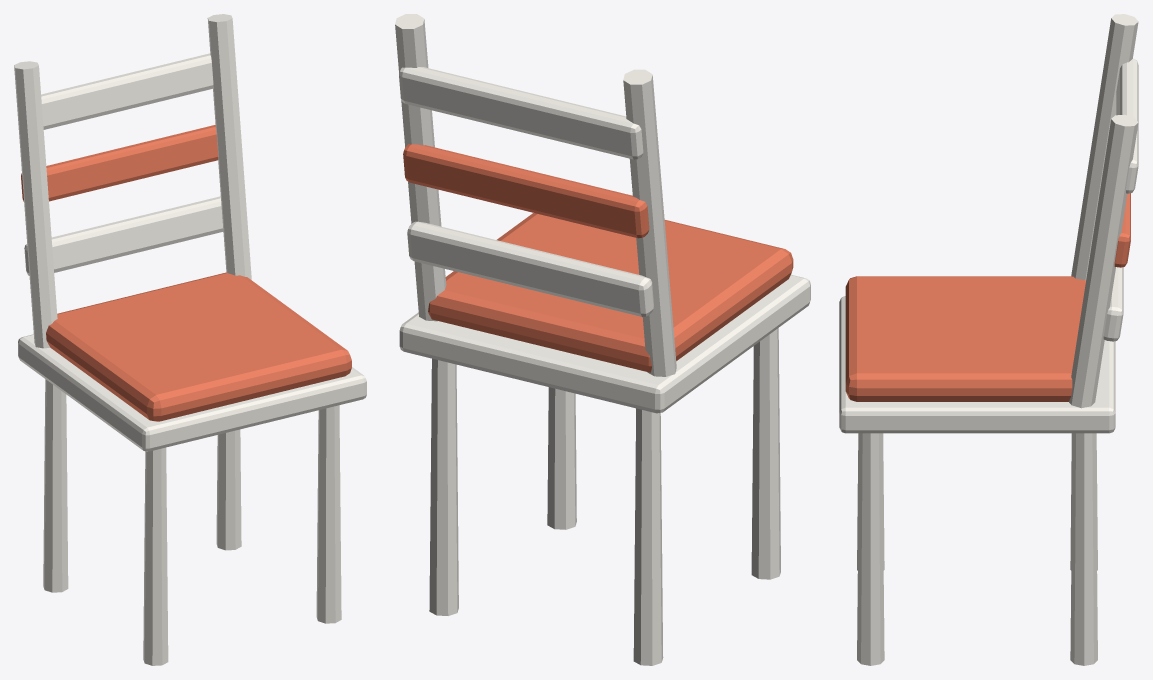
The model's file is b_chair_coral.gltf.
3 renders of one model, left to right at view 1: azimuth 30°, elevation 25°; view 2: azimuth 150°, elevation 25°; view 3: azimuth 270°, elevation 25°, orthographic. The views are drawn at different scales.
Parts seen in each view (by area): view 1: b_chair_coral; view 2: b_chair_coral; view 3: b_chair_coral.
Part boxes in pixels (x1,y1,x2,y2): b_chair_coral: (14, 14, 366, 665); b_chair_coral: (395, 14, 810, 665); b_chair_coral: (839, 14, 1138, 665).
Bounding box in the file's own units: 0.44 × 0.9606 × 0.4766.
1 material, 1 textured.
